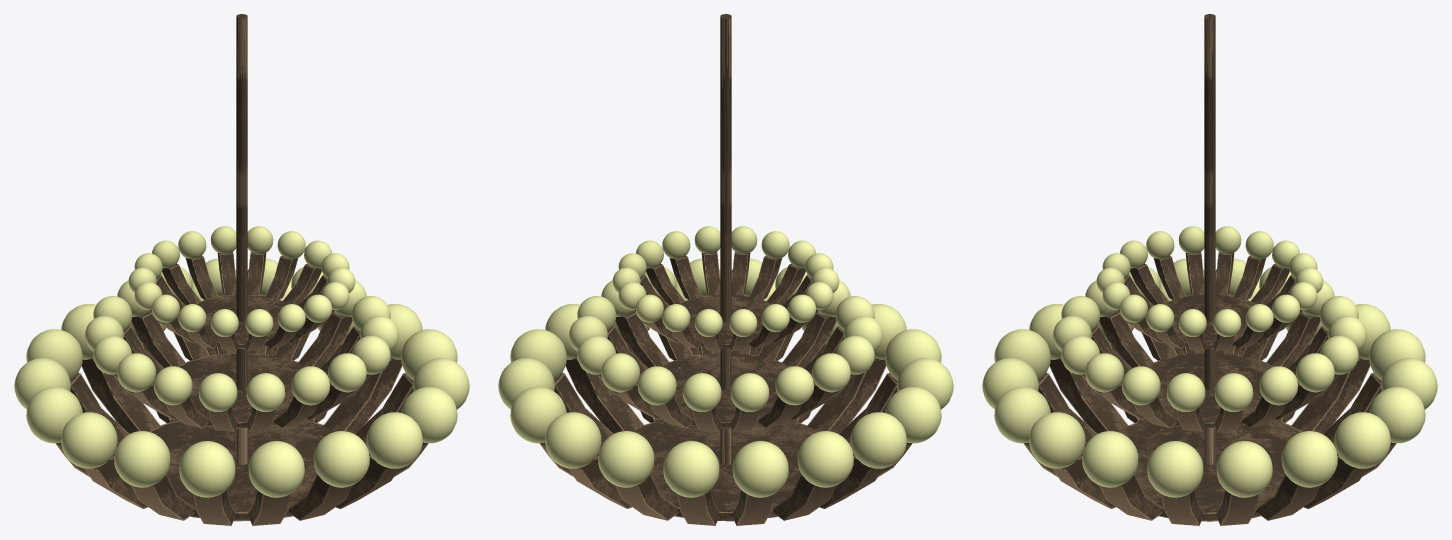
Rendered from Shandelia.fbx.
3 renders of one model, left to right at view 1: azimuth 30°, elevation 25°; view 2: azimuth 150°, elevation 25°; view 3: azimuth 270°, elevation 25°, orthographic.
Parts seen in each view (by area): view 1: Shandelia; view 2: Shandelia; view 3: Shandelia.
Part boxes in pixels (x1,y1,x2,y2): Shandelia: (14,14,469,525); Shandelia: (498,14,953,525); Shandelia: (982,14,1437,525).
Bounding box in the file's own units: 15.83 × 17.68 × 16.06.
